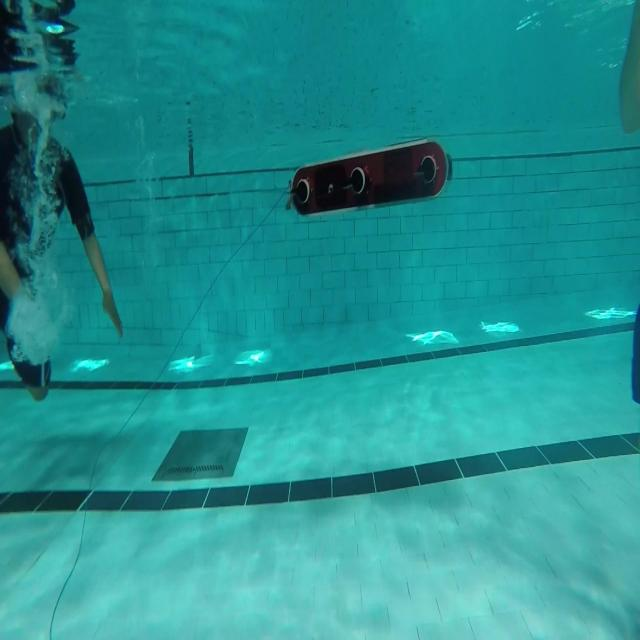human: (0, 71, 124, 400)
